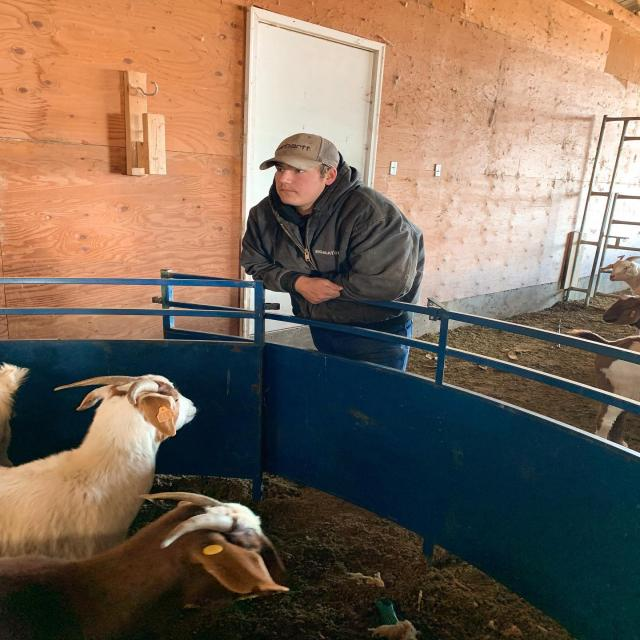goat: (8, 493, 286, 637), (4, 362, 212, 545)
